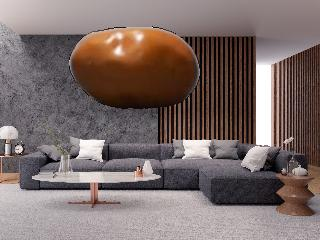potato: (70, 28, 198, 112)
